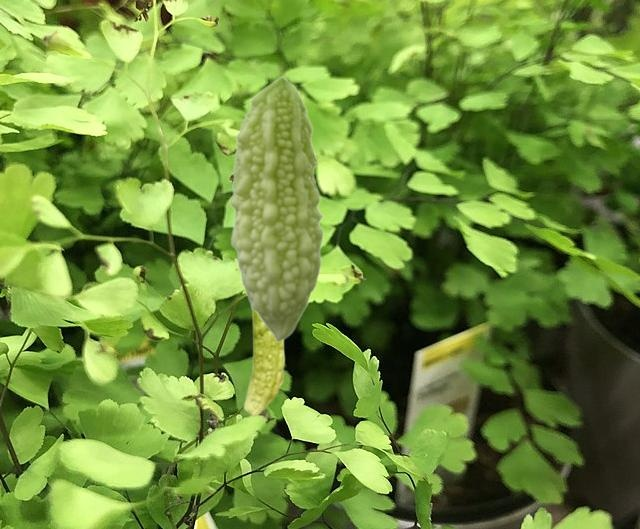ampalaya: (228, 75, 325, 343), (243, 311, 285, 418)
